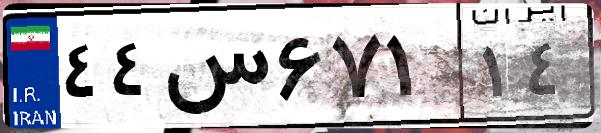1: (385, 28, 445, 110), (475, 38, 525, 113)
4: (57, 26, 110, 100), (525, 38, 570, 115), (110, 28, 158, 98)
6: (270, 28, 330, 110)
7: (330, 28, 385, 110)
س: (158, 20, 270, 120)
